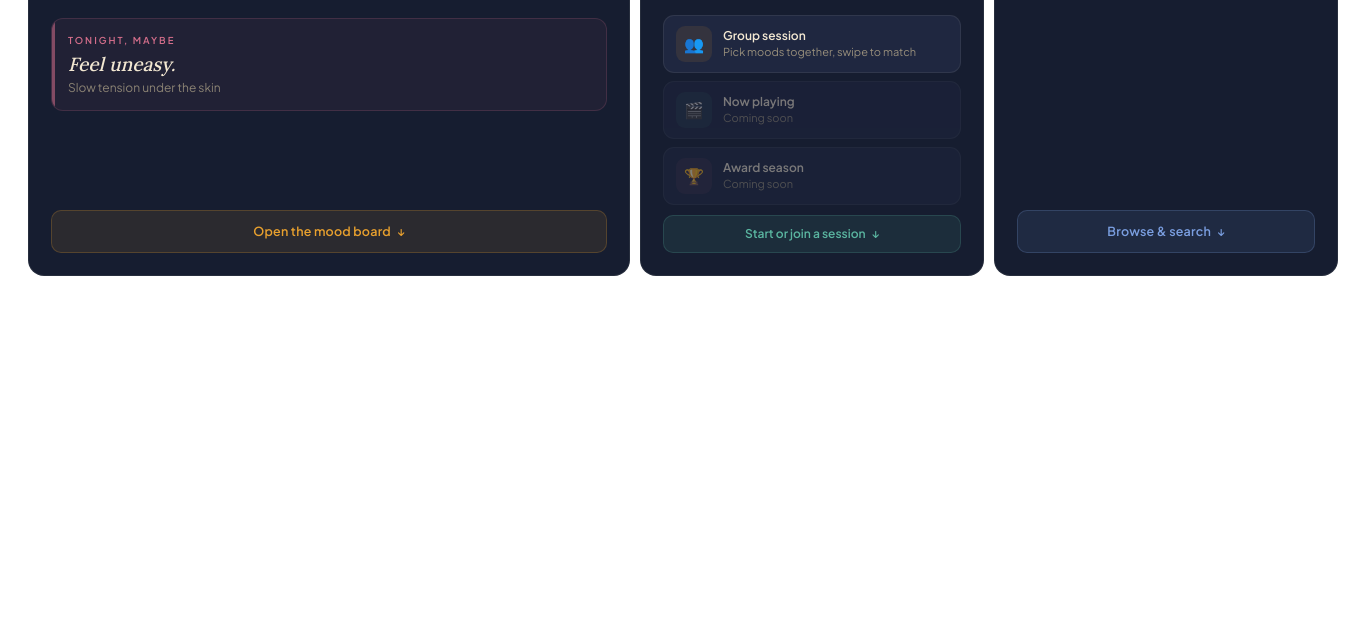
Scenario: DashboardShell, desktop › hands focus back to the box after a panel's Close
This screenshot has width=1366, height=641.
Click the button "Start or join a session ↓" at (812, 234), box [663,215,961,253]
(page scrolled)
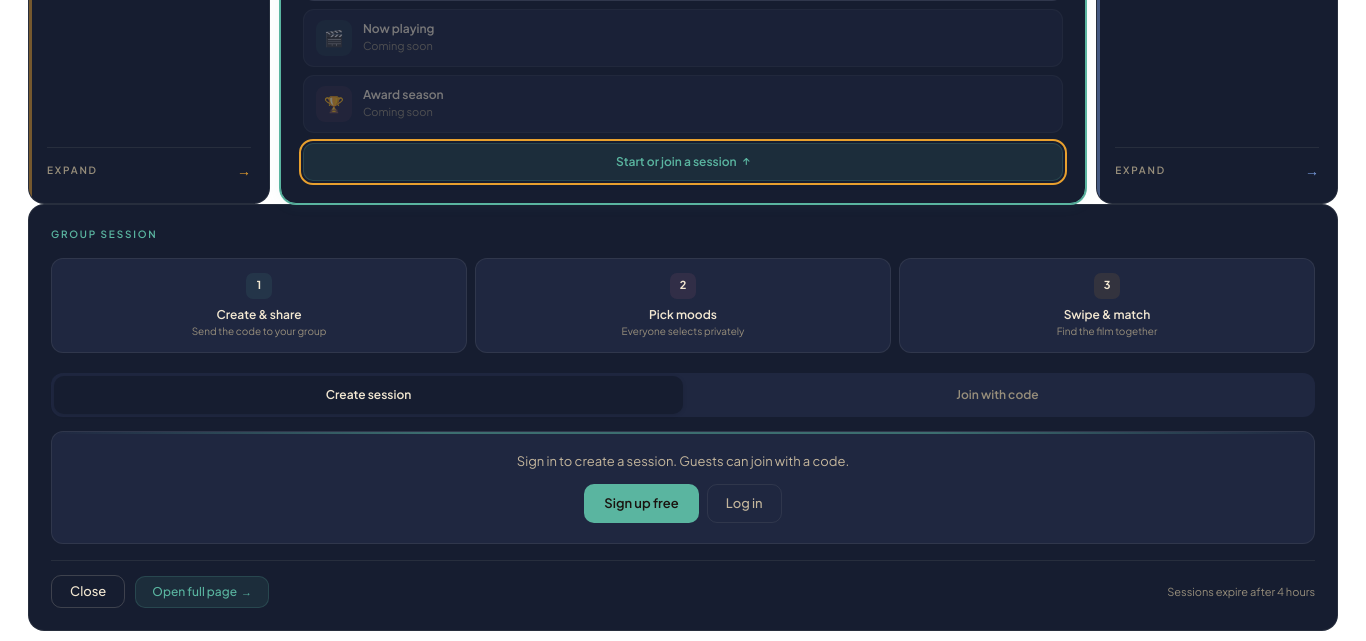
Click the button "Close" at (88, 592), box [51,575,125,608]
(page scrolled)
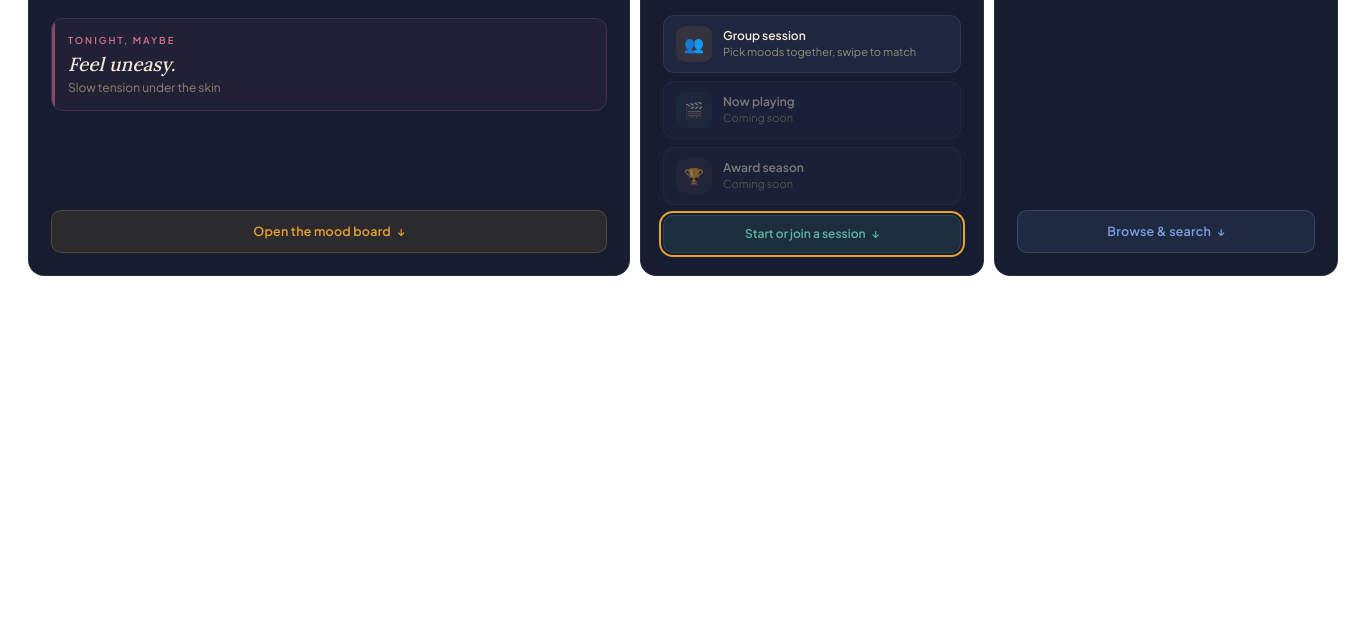
Expected: the button "Start or join a session ↓" is collapsed, [663,215,961,253]
Click the button "Browse & search ↓" at (1166, 232), box [1017,210,1315,253]
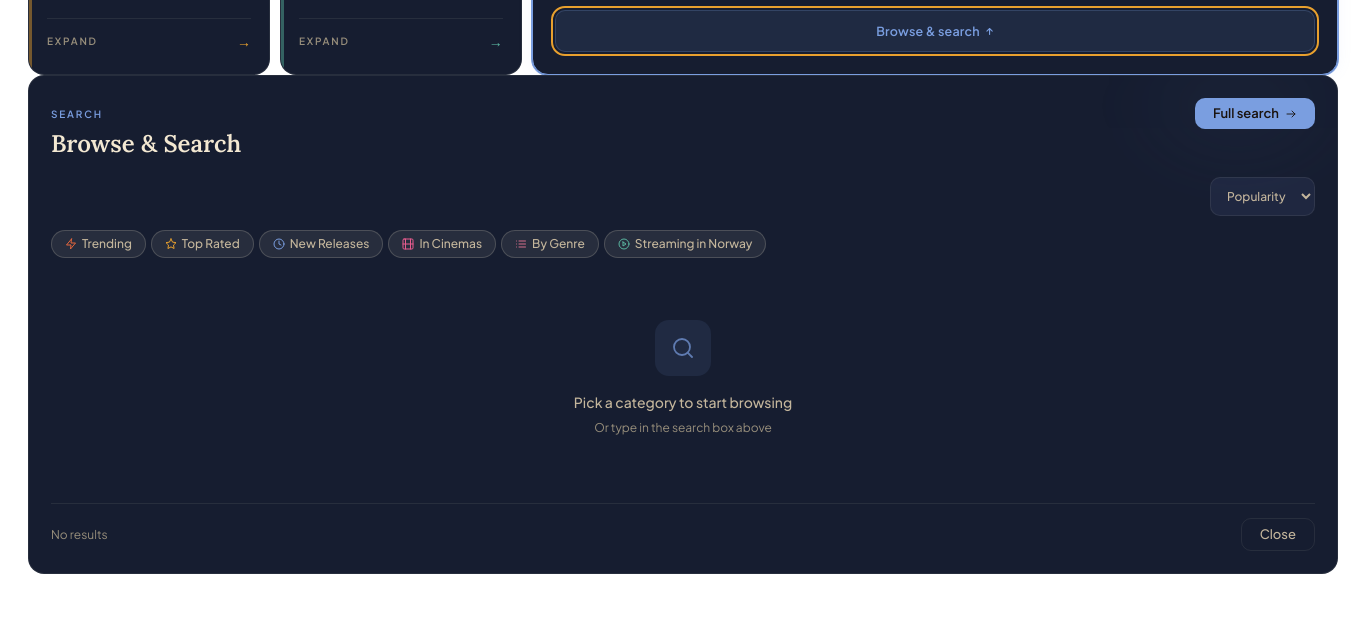
Click the button "Close" at (1278, 535), box [1241,518,1315,551]
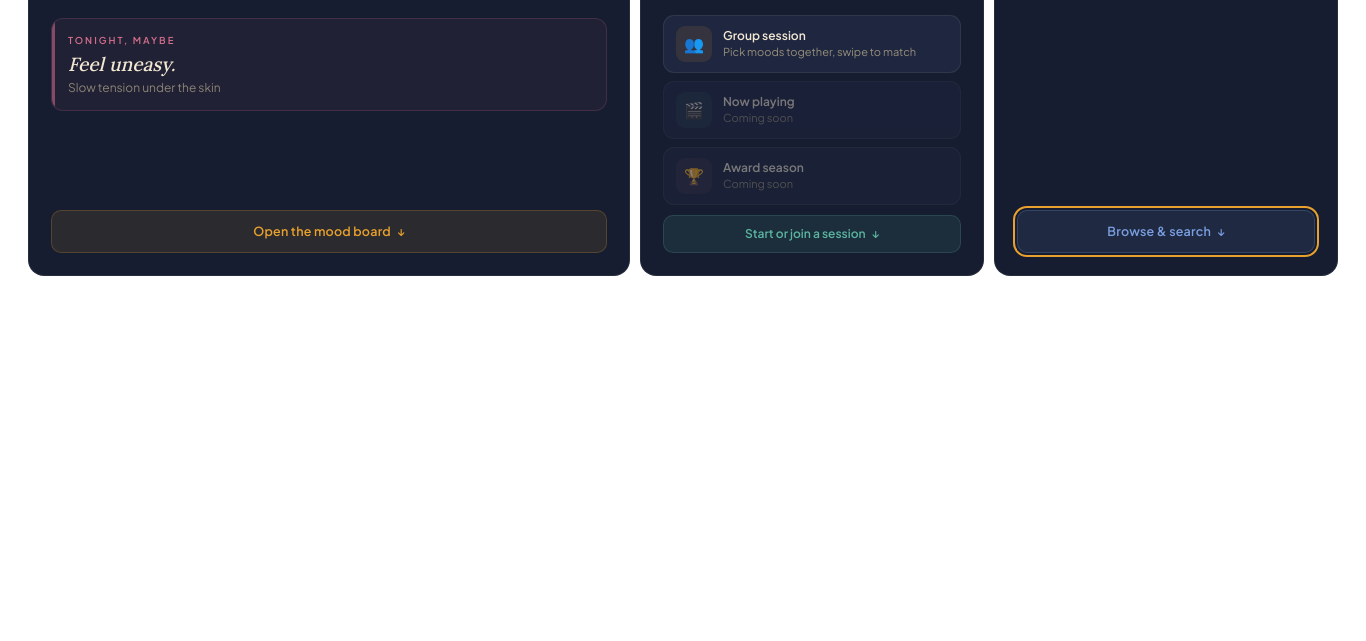
Expected: the button "Browse & search ↓" is collapsed, [1017,210,1315,253]
